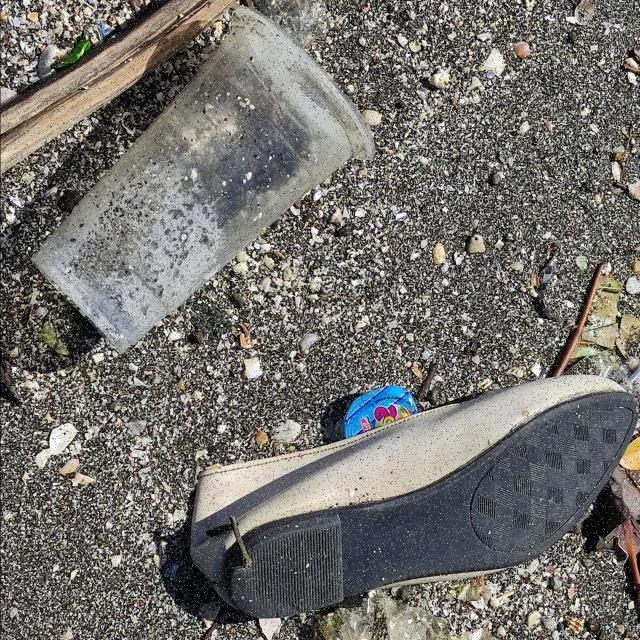plastic_waste: (30, 8, 376, 358), (342, 387, 418, 439)
rubber_waste: (187, 373, 640, 621)
